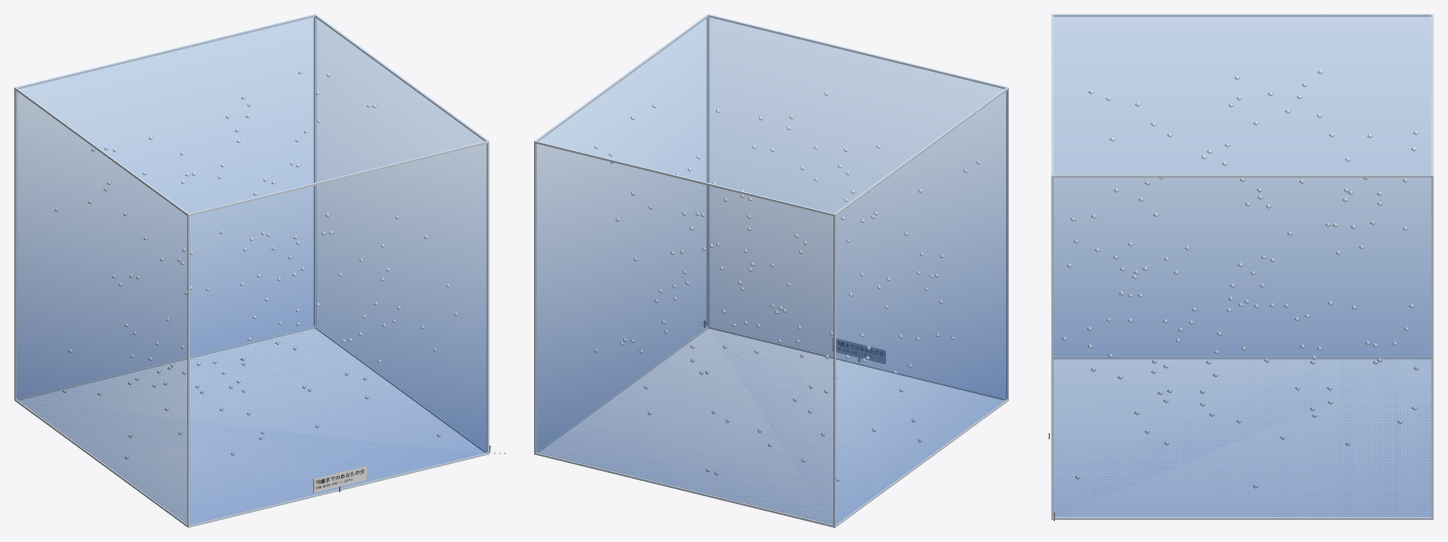
Rendered from cube_life_78.glb.
3 renders of one model, left to right at view 1: azimuth 30°, elevation 25°; view 2: azimuth 150°, elevation 25°; view 3: azimuth 270°, elevation 25°, orthographic. The views are drawn at different scales.
Parts seen in each view (by area): view 1: co2, edge, dots, label; view 2: co2, edge, dots, label; view 3: co2, edge, dots.
Boxes of the visible parts, x1,y1,x2,y2 form: co2: (16, 15, 486, 524); edge: (14, 14, 489, 527); dots: (54, 70, 457, 459); label: (313, 466, 366, 492); co2: (536, 15, 1006, 524); edge: (534, 14, 1008, 527); dots: (594, 91, 980, 481); label: (836, 338, 885, 363); co2: (1052, 14, 1431, 516); edge: (1051, 14, 1433, 519); dots: (1062, 69, 1418, 488).
Size of the model in its own units: 70.74 by 66.98 by 69.84.
8 materials, 3 textured.
